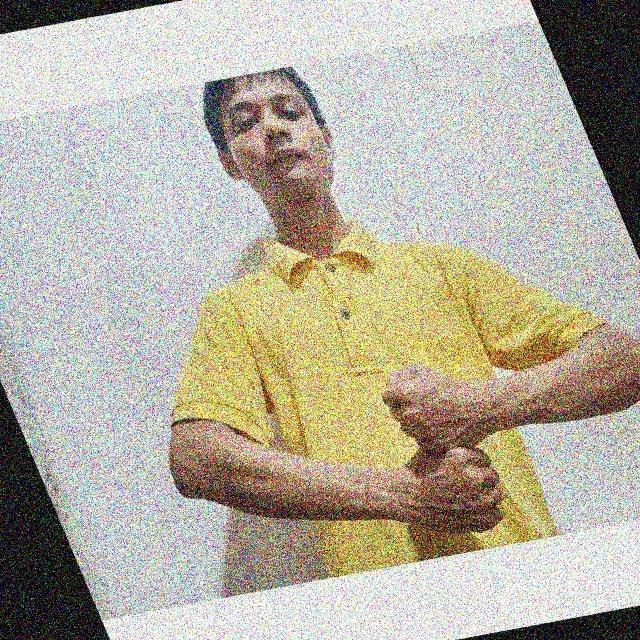G: (372, 347, 520, 537)
